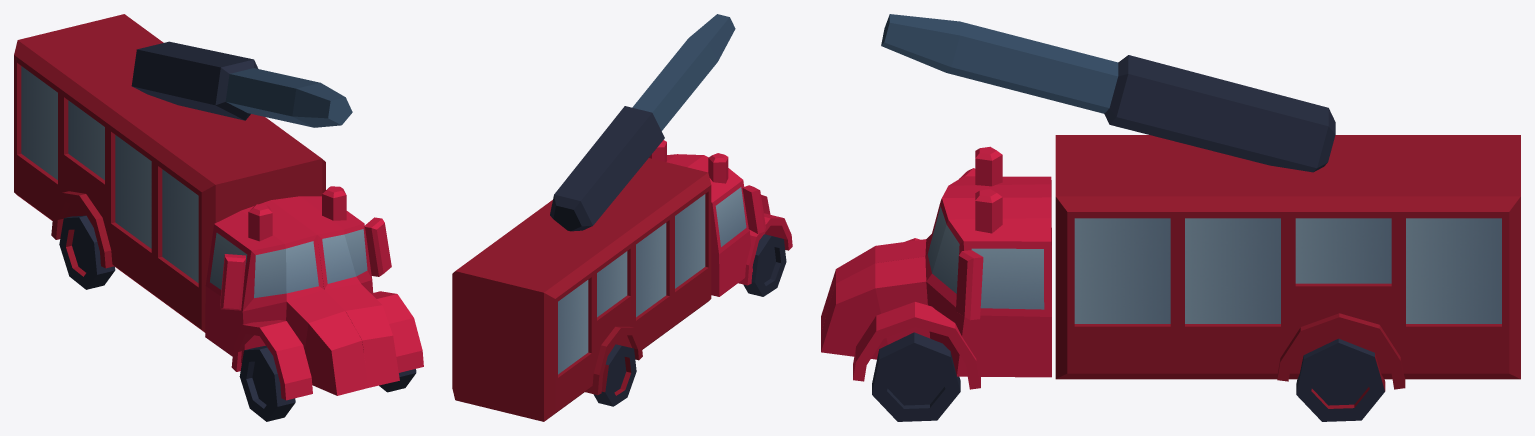
File: FIRETRUCK.fbx
The picture shows the model from 3 angles, left to right: view 1: azimuth 30°, elevation 25°; view 2: azimuth 150°, elevation 25°; view 3: azimuth 270°, elevation 25°; orthographic projection. The views are drawn at different scales.
Parts seen in each view (by area): view 1: Firetruck, Firetruck.canon; view 2: Firetruck, Firetruck.canon; view 3: Firetruck, Firetruck.canon.
Part boxes in pixels (x1,y1,x2,y2): Firetruck: (14,14,423,421); Firetruck.canon: (131,41,352,127); Firetruck: (452,140,792,421); Firetruck.canon: (550,14,735,231); Firetruck: (821,135,1520,421); Firetruck.canon: (881,14,1335,172).
Bounding box in the file's own units: 274 × 475 × 830.
